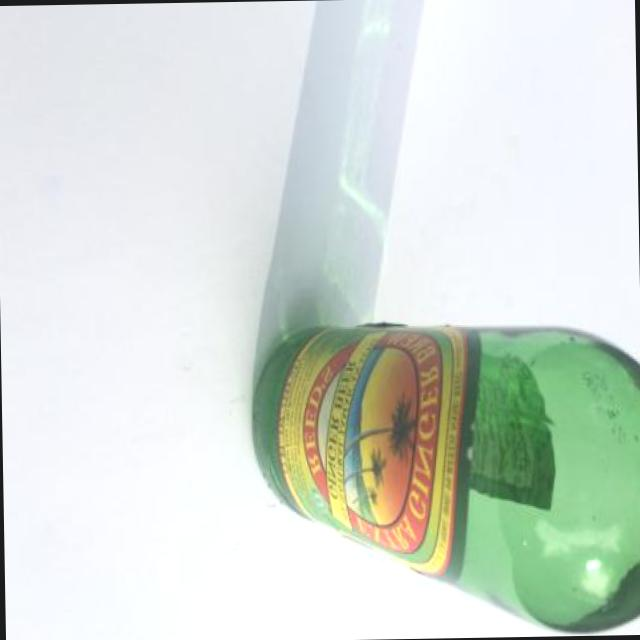chai_thuy_tinh: (252, 326, 640, 630)
